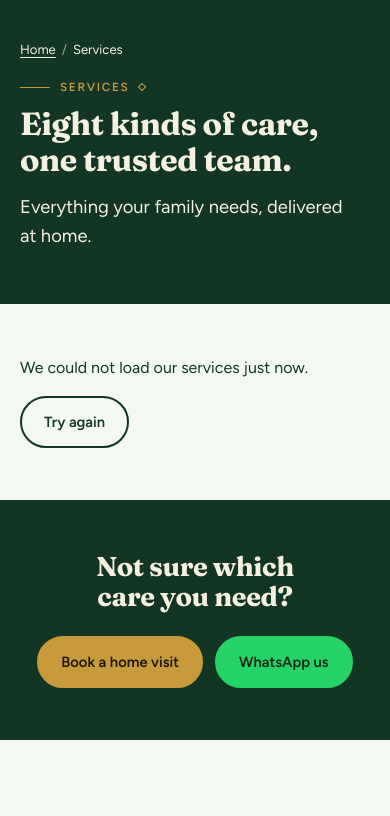
Test: ServicesPage › shows an alert with a retry button on failure, and the cards after a successful retry
The width and height of the screenshot is (390, 816).
Expected: the message shows "We could not load our services just now.", x1=20 y1=358 x2=308 y2=377
Click the button "Try again": (75, 422) x1=20 y1=396 x2=129 y2=448
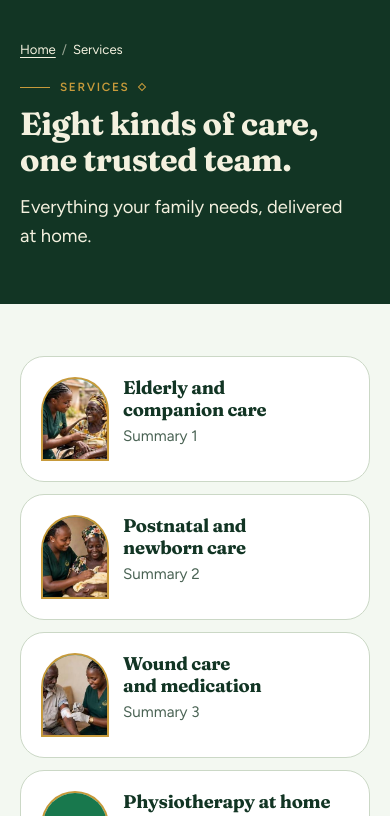
Result: the message "We could not load our services just now. Try again" is gone
